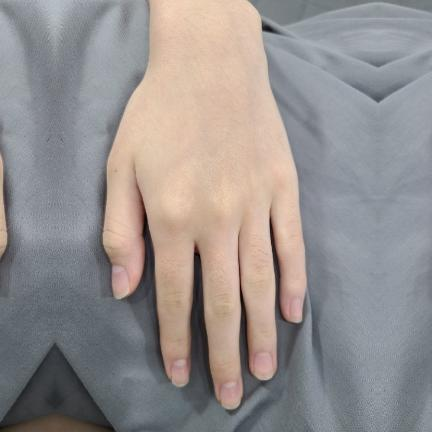Nail: (111, 265, 129, 300), (220, 381, 240, 409), (254, 351, 273, 380), (171, 359, 189, 387), (289, 298, 302, 323)
